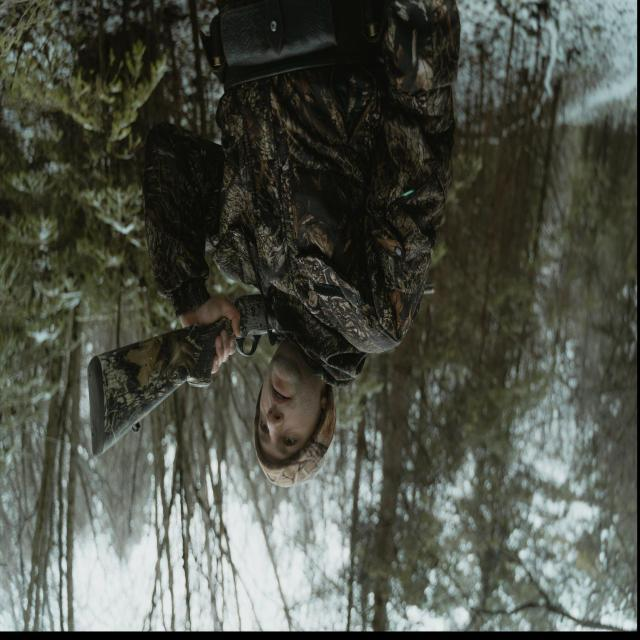weapon: (86, 293, 290, 458)
